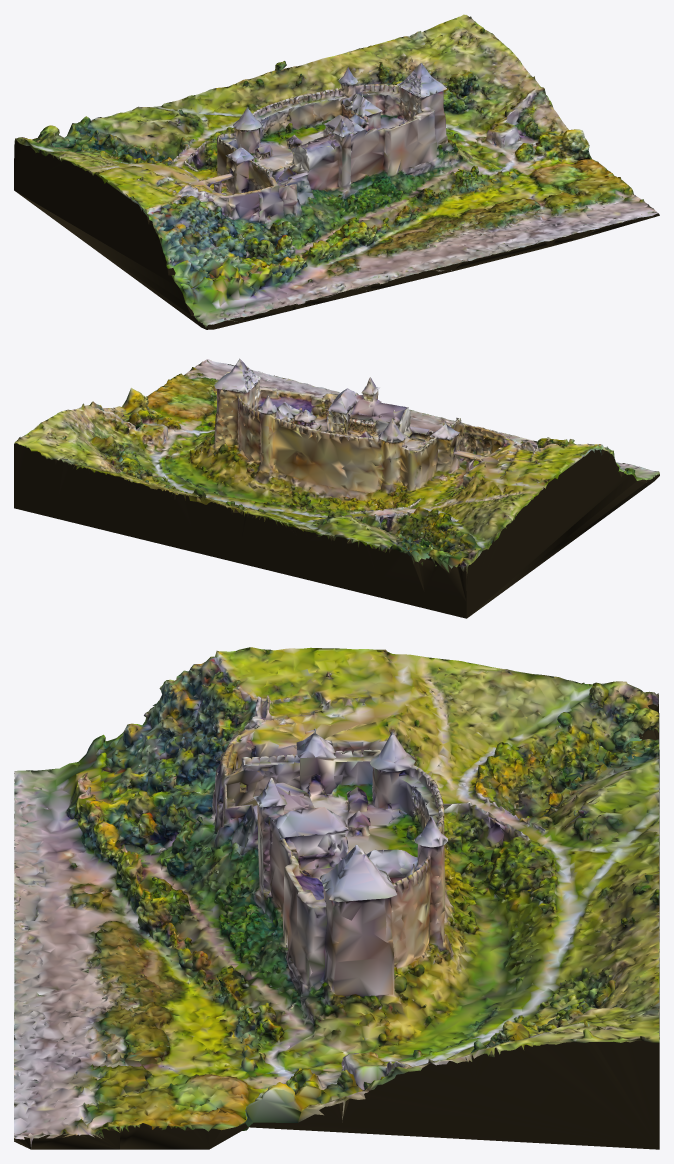
File: khotyn-fortress.glb
3 renders of one model, top to bottom at view 1: azimuth 30°, elevation 25°; view 2: azimuth 150°, elevation 25°; view 3: azimuth 270°, elevation 25°, orthographic. The views are drawn at different scales.
Parts seen in each view (by area): view 1: Object_3, Object_2; view 2: Object_3, Object_2; view 3: Object_3, Object_2.
Boxes of the visible parts, x1=… form: Object_3: x1=14, y1=14, x2=658, y2=327; Object_2: x1=14, y1=140, x2=659, y2=329; Object_3: x1=14, y1=358, x2=659, y2=573; Object_2: x1=14, y1=364, x2=659, y2=618; Object_3: x1=14, y1=647, x2=659, y2=1149; Object_2: x1=14, y1=703, x2=659, y2=1149.
Bounding box in the file's own units: 43.67 × 10.68 × 32.11.
